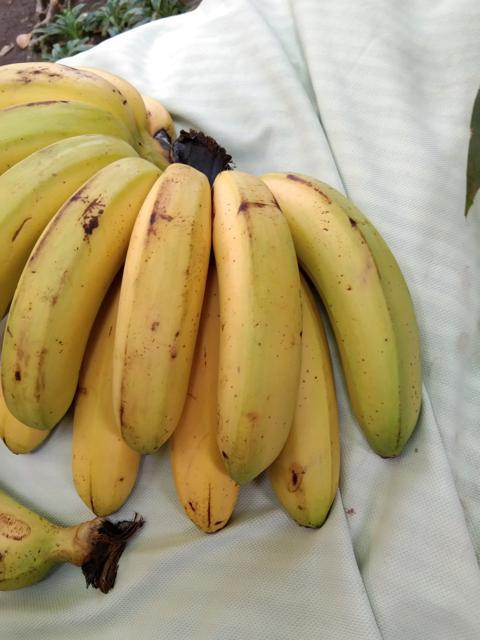ripe: (0, 159, 152, 431), (98, 148, 218, 456), (195, 168, 308, 483)
